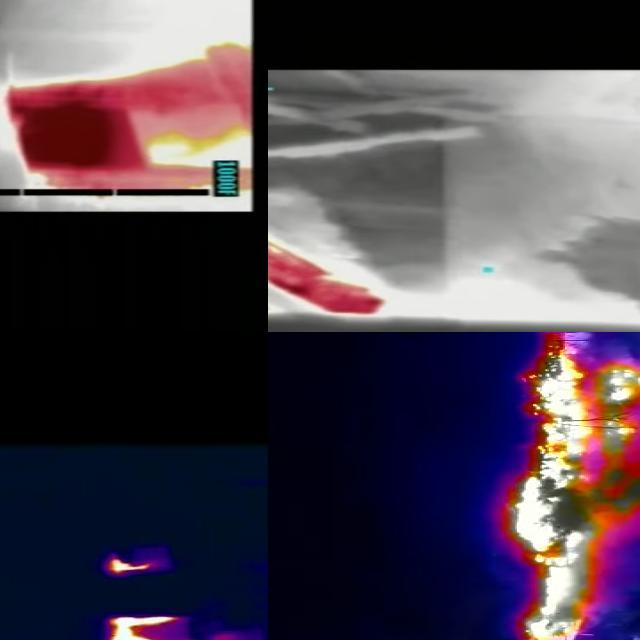fire: (502, 333, 640, 640), (1, 44, 253, 196), (269, 212, 392, 320), (102, 616, 202, 640), (103, 560, 160, 576)
